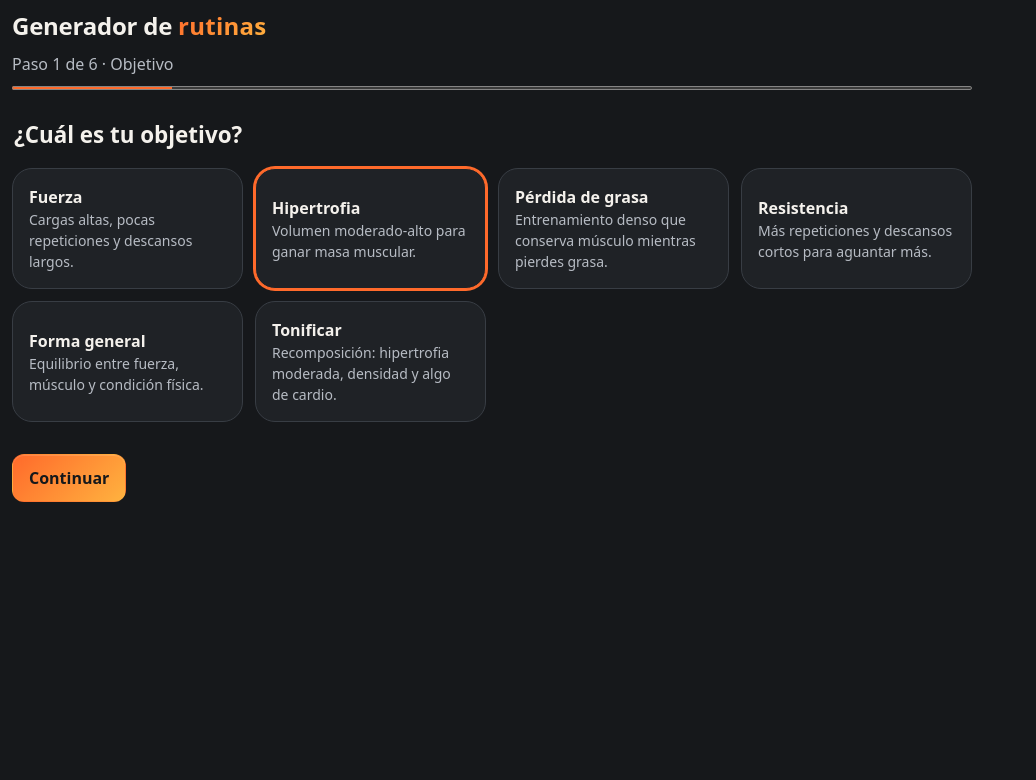
it: GeneratorScreen › informa si el motor rechaza la entrada
Click the button "Fuerza Cargas altas, pocas repeticiones y descansos largos.". click: (128, 228)
box: [12,168,243,289]
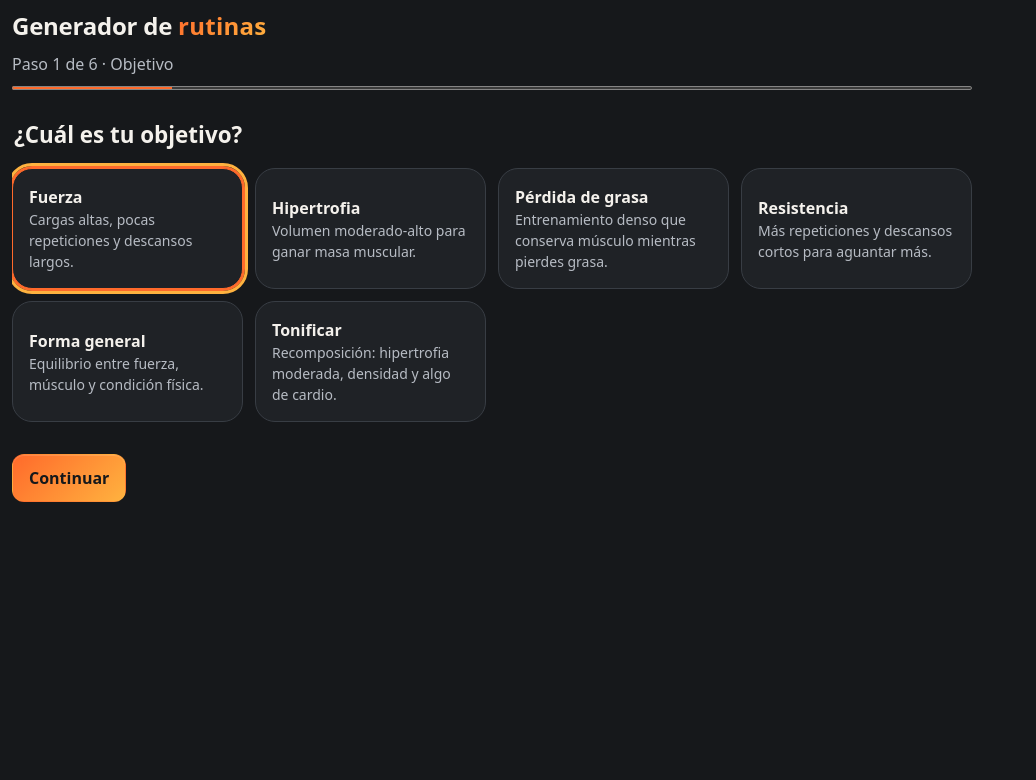
Click the button "Continuar". click: (69, 478)
box: [12,454,126,502]
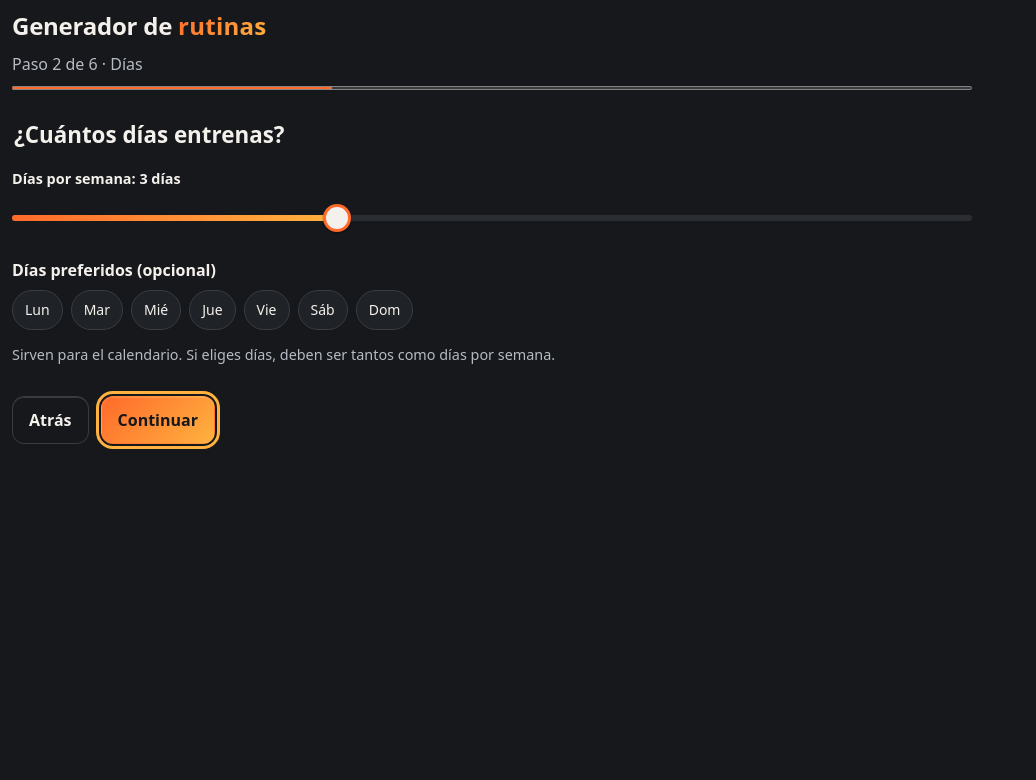
Click the button "Continuar". click: (158, 420)
box: [100,396,215,444]
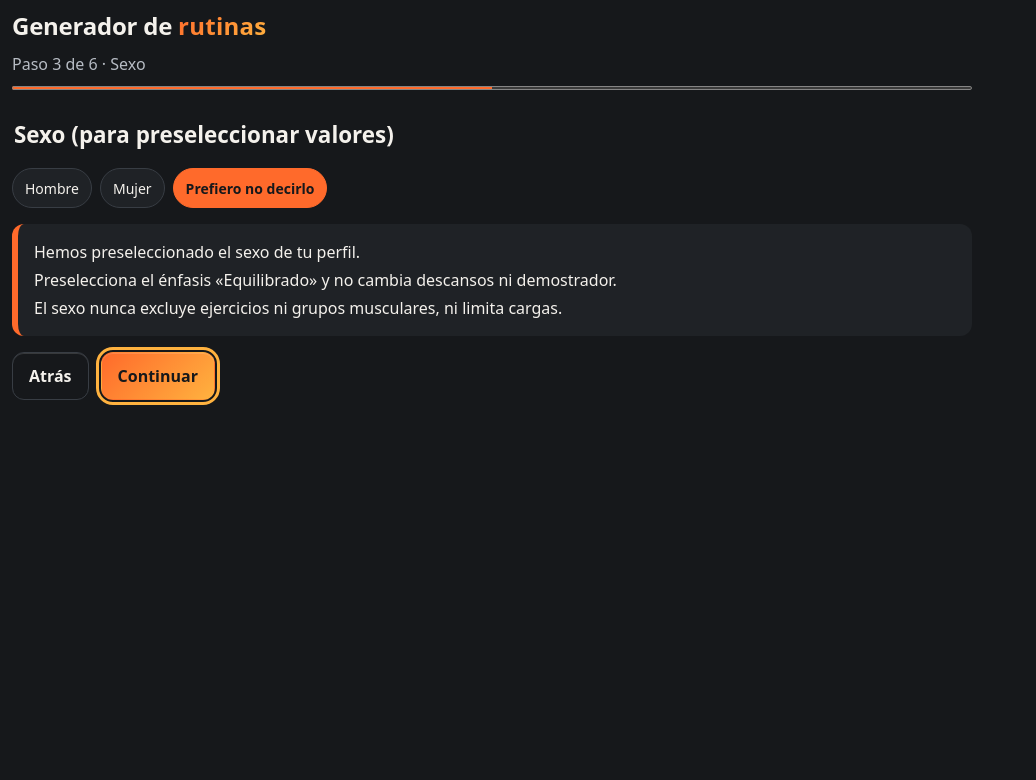
Click the button "Continuar". click: (158, 376)
box: [100,352,215,400]
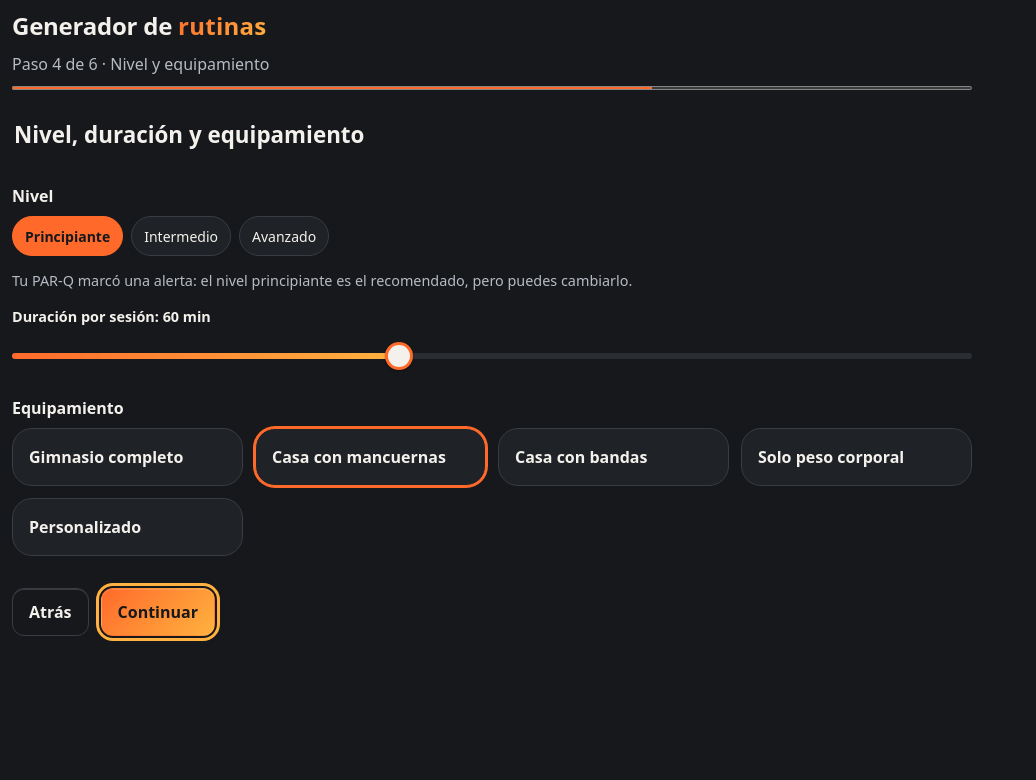
Click the button "Continuar". click: (158, 612)
box: [100,588,215,636]
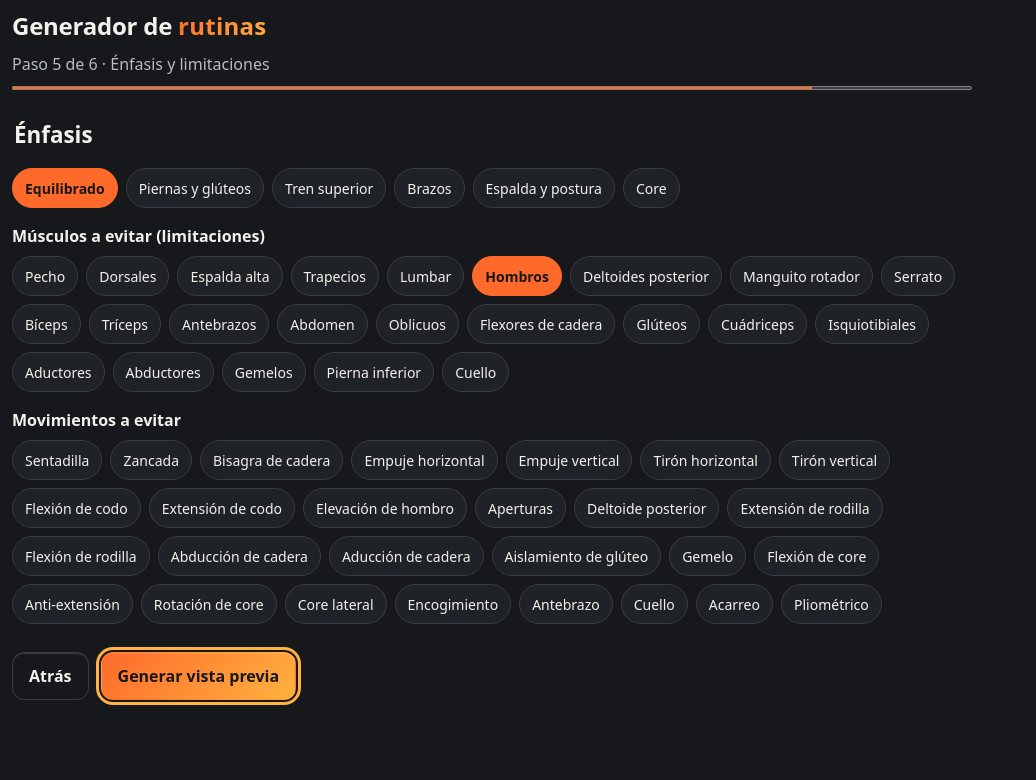
Click the button "Generar vista previa". click: (198, 676)
box: [100,652,296,700]
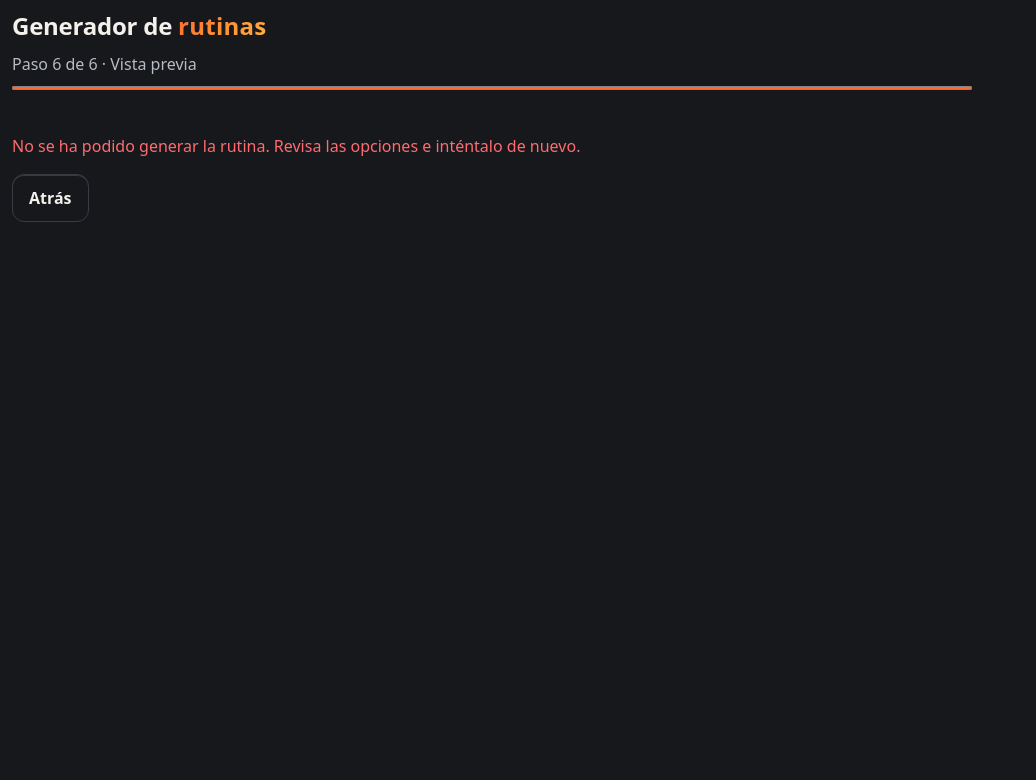
Expected: the text "No se ha podido generar la rutina. Revisa las opciones e inténtalo de nuevo." is shown, [12,135,580,157]
